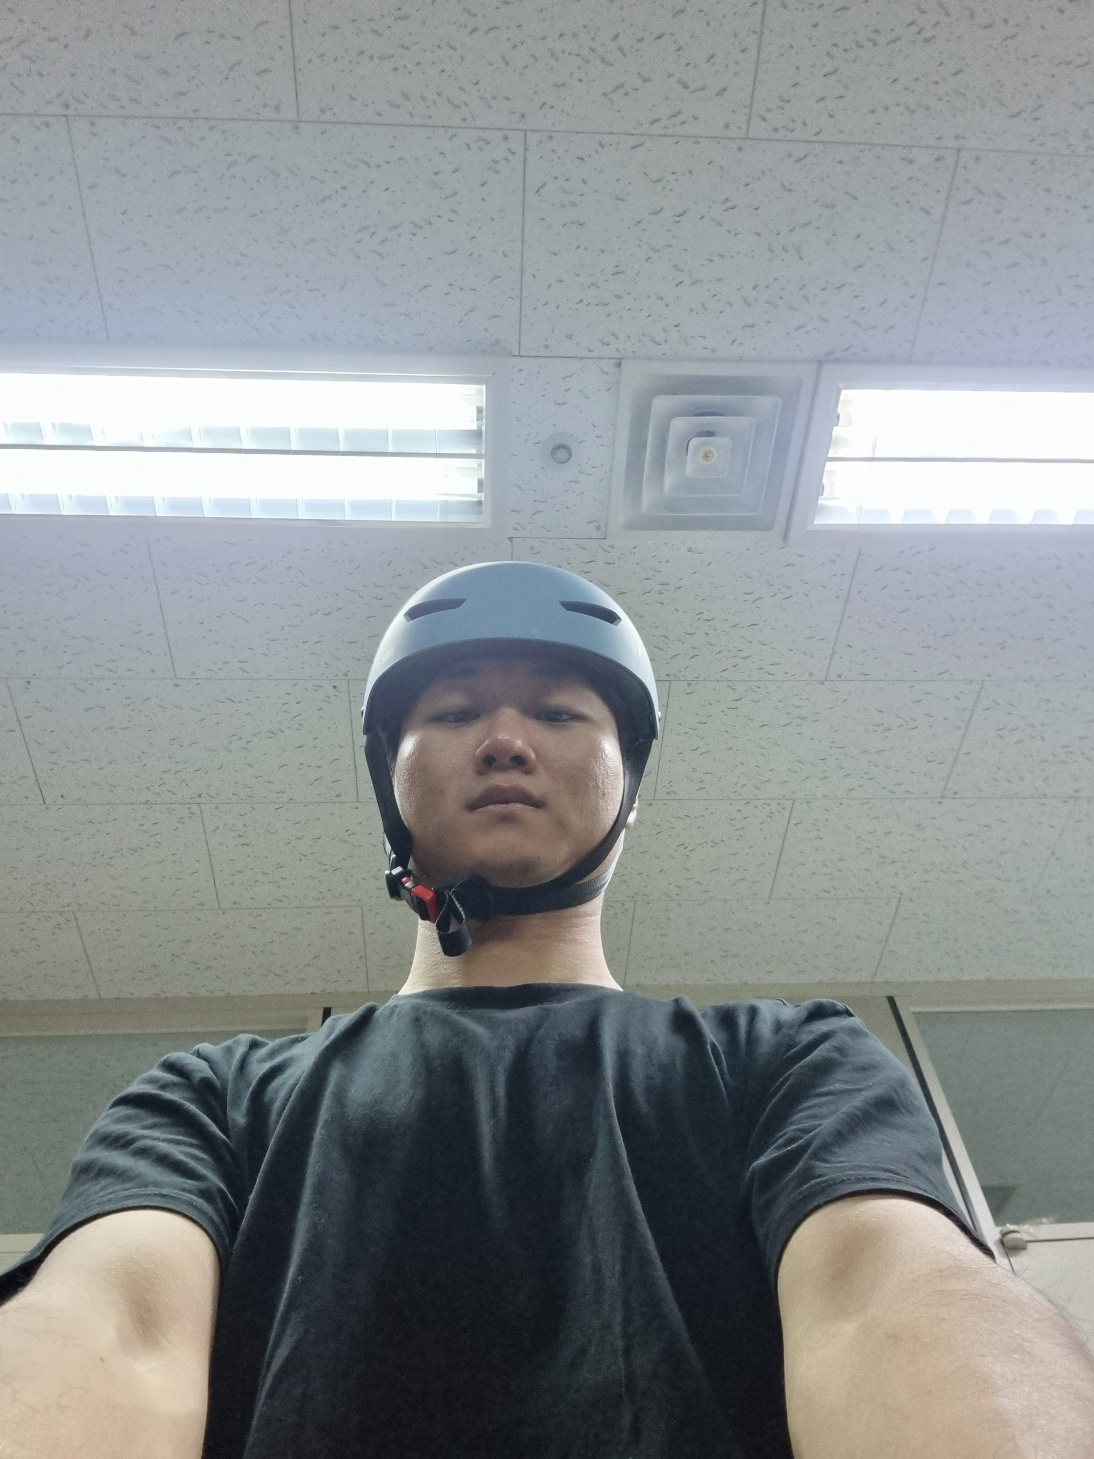Helmet: (332, 515, 684, 990)
